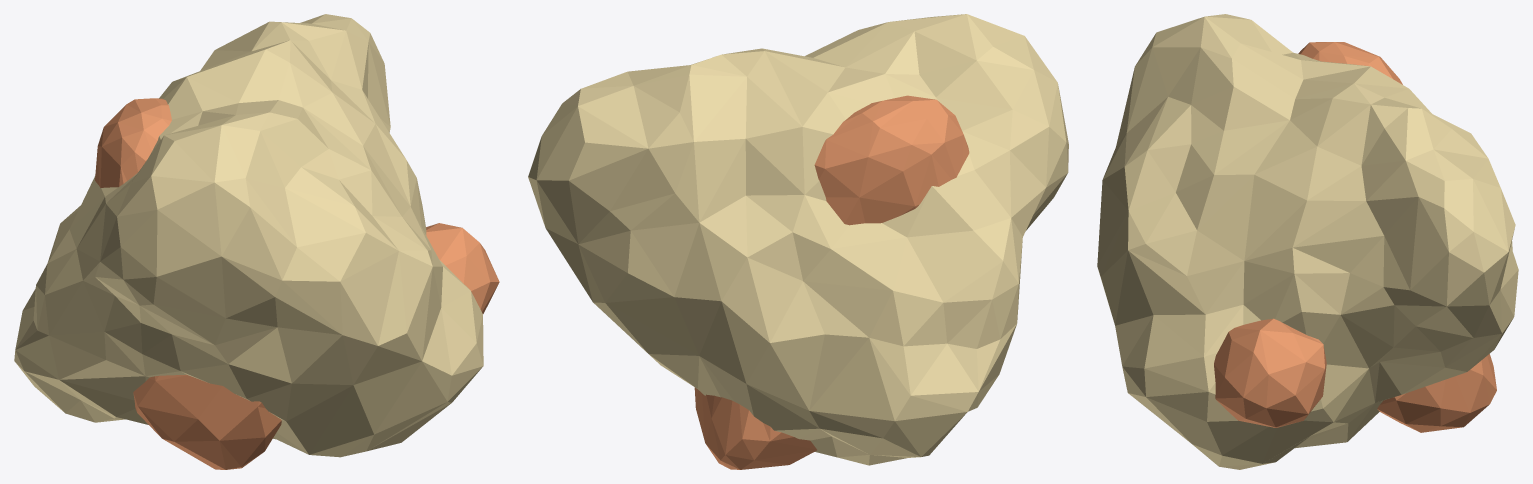
File: StoneOre (13).fbx
3 views of the same model, side by side, from view 1: azimuth 30°, elevation 25°; view 2: azimuth 150°, elevation 25°; view 3: azimuth 270°, elevation 25° (orthographic). The views are drawn at different scales.
Parts seen in each view (by area): view 1: Asteroid300; view 2: Asteroid300; view 3: Asteroid300.
Boxes of the visible parts, bbox=[...] form: Asteroid300: bbox=[14, 14, 499, 469]; Asteroid300: bbox=[528, 14, 1068, 469]; Asteroid300: bbox=[1097, 14, 1518, 469].
Size of the model in its own units: 362 by 318 by 327.
